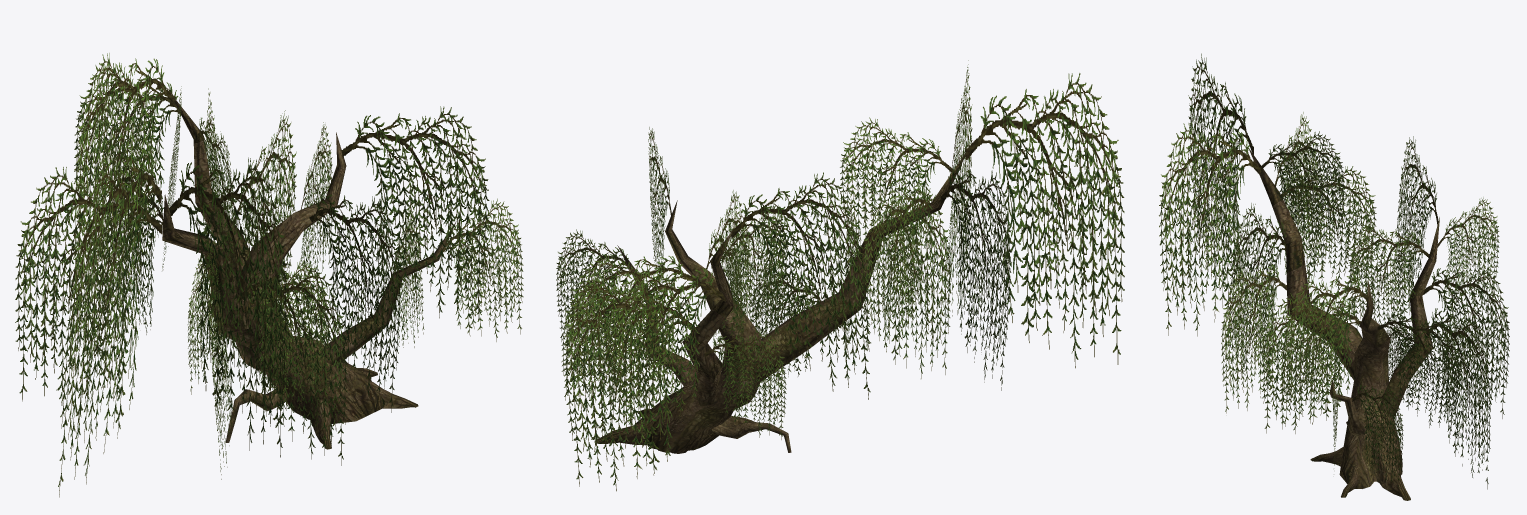
The model's file is liushu_60.FBX.
The picture shows the model from 3 angles, left to right: view 1: azimuth 30°, elevation 25°; view 2: azimuth 150°, elevation 25°; view 3: azimuth 270°, elevation 25°; orthographic projection. The views are drawn at different scales.
Visible parts, largest first — view 1: liushu_60; view 2: liushu_60; view 3: liushu_60.
Boxes of the visible parts, bbox=[...] form: liushu_60: bbox=[15, 53, 523, 497]; liushu_60: bbox=[556, 60, 1125, 491]; liushu_60: bbox=[1159, 53, 1509, 500].
Size of what is drawn, in the model's own units: 2012 by 1638 by 1547.
